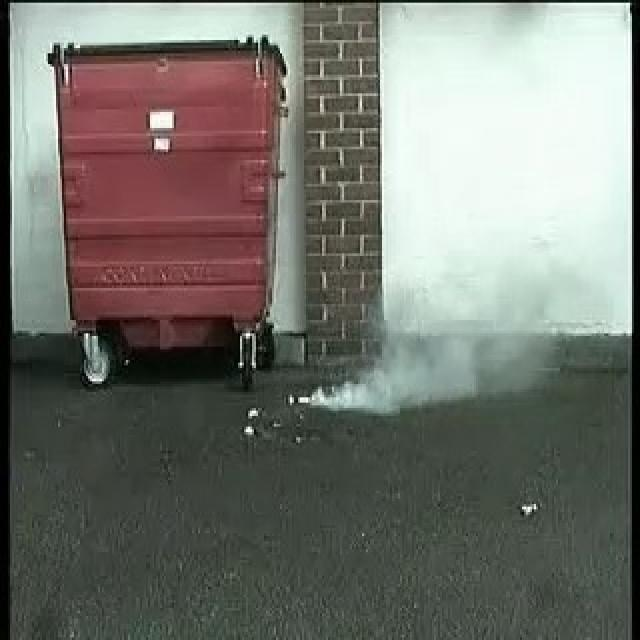smoke: (296, 291, 542, 413)
